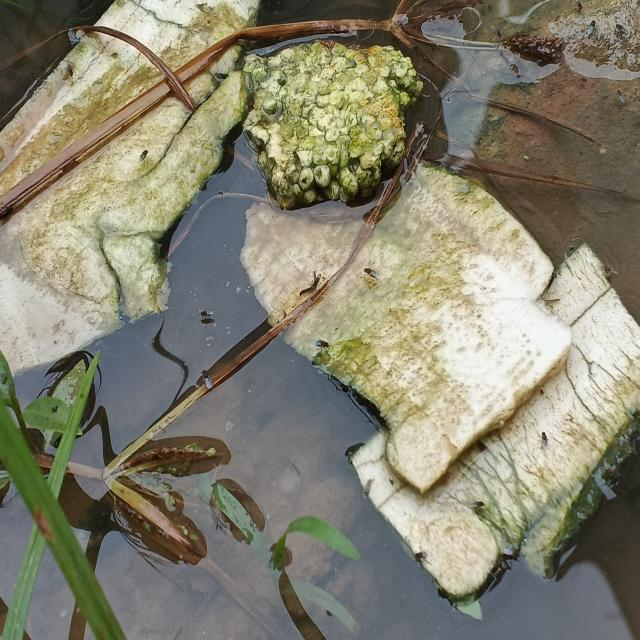Breeding Place: (0, 117, 640, 640), (331, 0, 640, 312)
